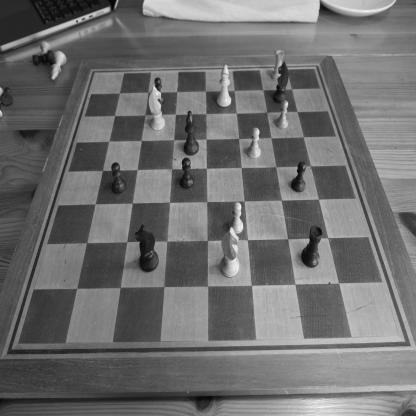black-knight: (135, 223, 159, 272), (273, 60, 289, 104), (184, 110, 199, 156)
black-pawn: (111, 162, 127, 194), (291, 160, 306, 192), (180, 157, 194, 190), (154, 77, 166, 106)
black-rook: (301, 225, 323, 268), (32, 49, 55, 66)
white-bishop: (216, 64, 232, 108), (50, 50, 67, 82)
white-knight: (220, 226, 240, 278), (148, 85, 166, 131)
white-pawn: (228, 202, 244, 234), (247, 127, 261, 159), (275, 100, 289, 129)
white-rook: (271, 50, 285, 82)
